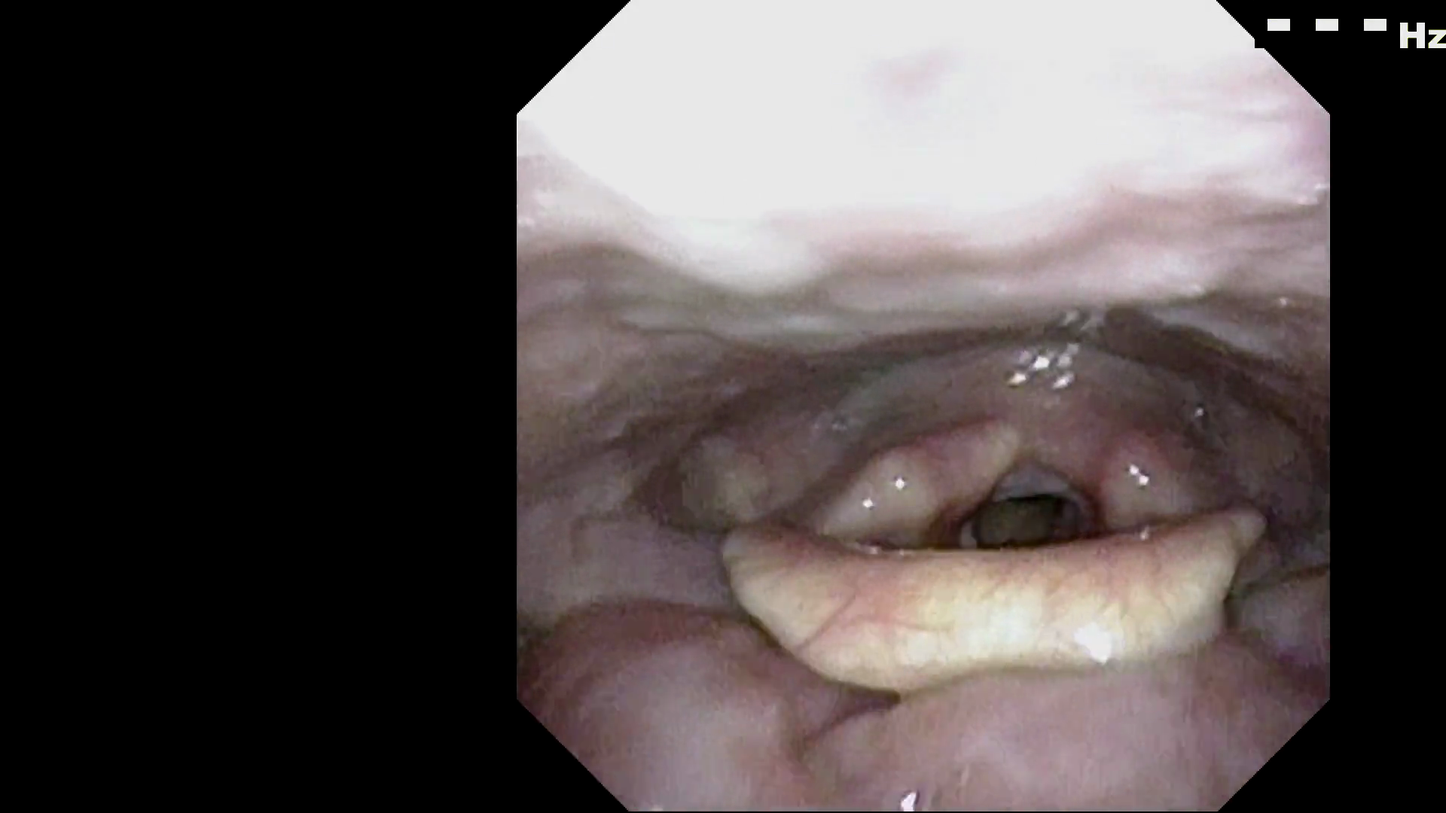epiglottis: (679, 532, 1221, 671)
